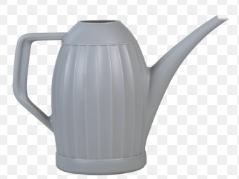ARROSOIR: (10, 1, 225, 179)
